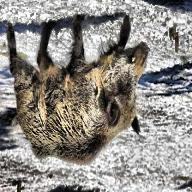boar: (0, 15, 162, 161)
